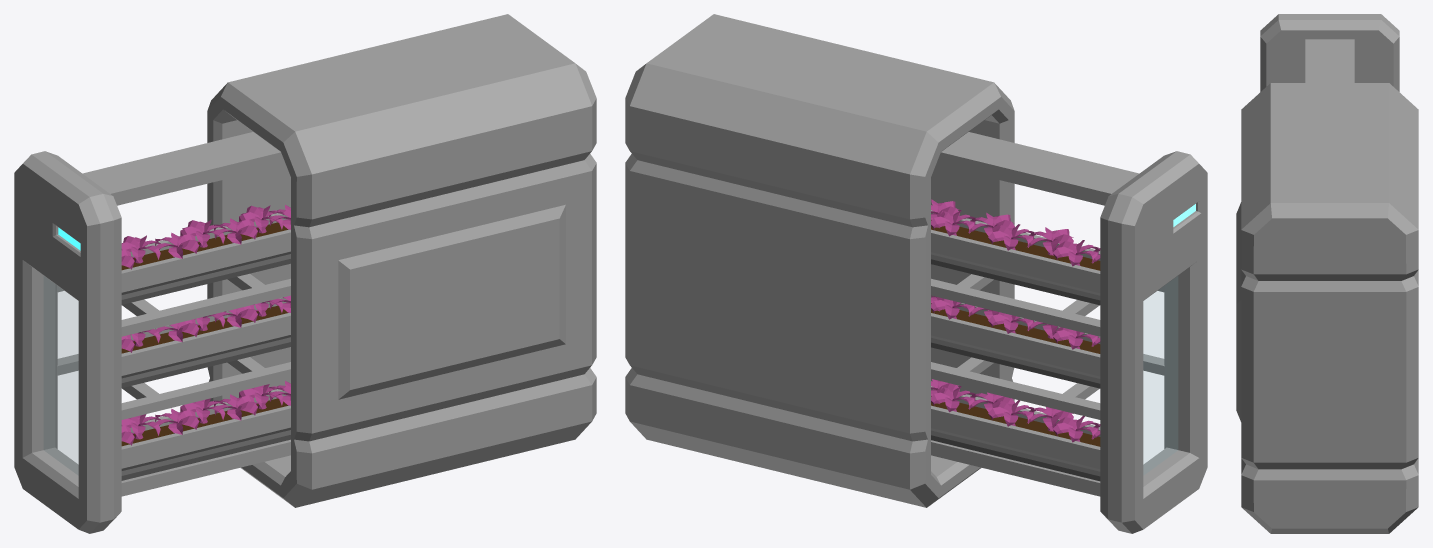
The model's file is SM_HydroponicsBoxOpen.fbx.
3 renders of one model, left to right at view 1: azimuth 30°, elevation 25°; view 2: azimuth 150°, elevation 25°; view 3: azimuth 270°, elevation 25°, orthographic. The views are drawn at different scales.
Parts seen in each view (by area): view 1: SM_HydroponicsBoxOpen; view 2: SM_HydroponicsBoxOpen; view 3: SM_HydroponicsBoxOpen.
Part boxes in pixels (x1=…): SM_HydroponicsBoxOpen: x1=14, y1=14, x2=596, y2=533; SM_HydroponicsBoxOpen: x1=625, y1=14, x2=1207, y2=533; SM_HydroponicsBoxOpen: x1=1236, y1=14, x2=1418, y2=533.
Size of the model in its own units: 198 by 142 by 70.94.
